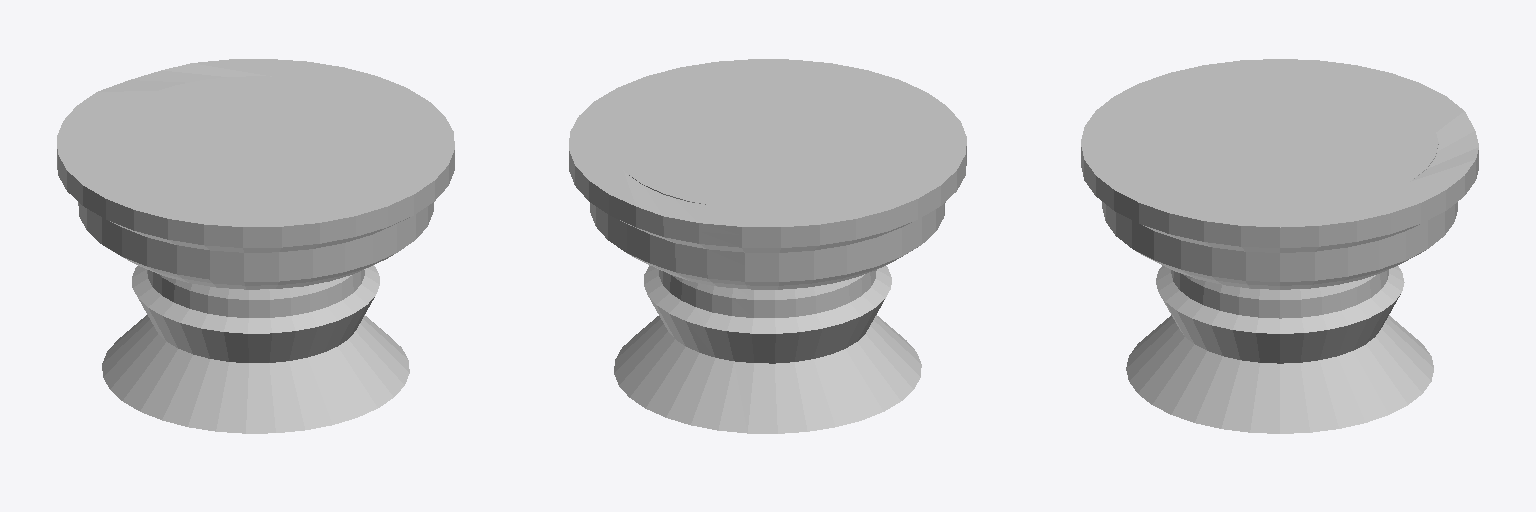
File: Gork.obj
The picture shows the model from 3 angles: view 1: azimuth 30°, elevation 25°; view 2: azimuth 150°, elevation 25°; view 3: azimuth 270°, elevation 25°; orthographic projection.
Parts seen in each view (by area): view 1: Цилиндр.001; view 2: Цилиндр.001; view 3: Цилиндр.001.
Part boxes in pixels (x1,y1,x2,y2): Цилиндр.001: (57, 59, 454, 433); Цилиндр.001: (569, 59, 966, 433); Цилиндр.001: (1081, 59, 1478, 433).
Bounding box in the file's own units: 2.11 × 1.31 × 2.11.